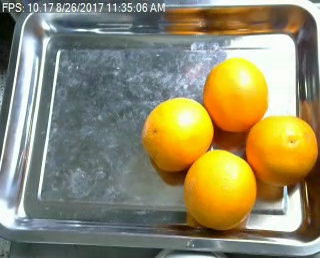Orange: (184, 149, 256, 230), (141, 97, 214, 171), (245, 114, 316, 184), (204, 58, 268, 133)
